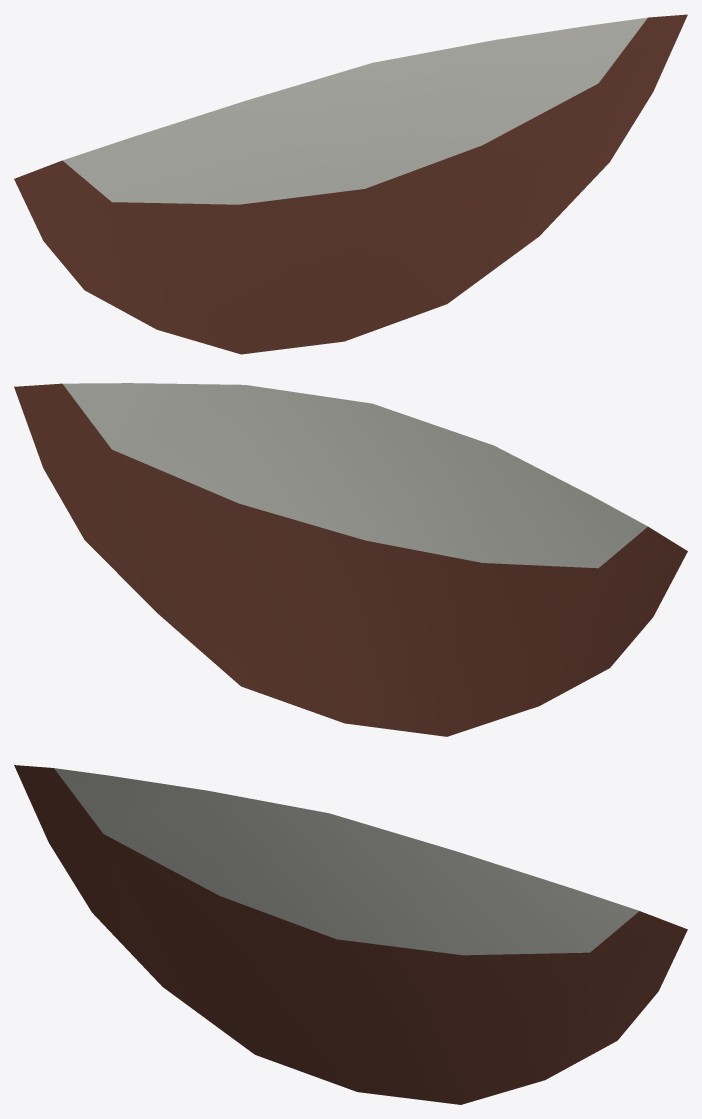
File: Mouth_Black_8.fbx
The picture shows the model from 3 angles, top to bottom: view 1: azimuth 30°, elevation 25°; view 2: azimuth 150°, elevation 25°; view 3: azimuth 330°, elevation 25°; orthographic projection.
Visible parts, largest first — view 1: Mouth_Black_8; view 2: Mouth_Black_8; view 3: Mouth_Black_8.
Part boxes in pixels (x1=…): Mouth_Black_8: x1=14, y1=14, x2=687, y2=354; Mouth_Black_8: x1=14, y1=383, x2=687, y2=736; Mouth_Black_8: x1=14, y1=765, x2=687, y2=1104.
Bounding box in the file's own units: 9.33 × 3.96 × 0.6817.
